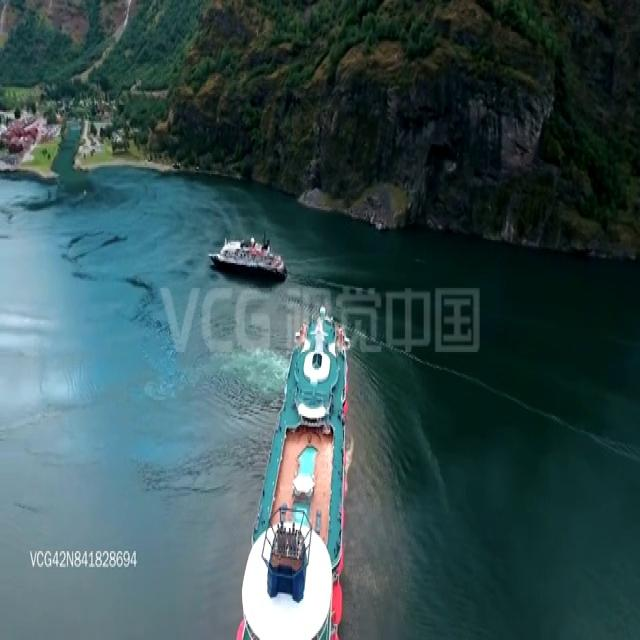passenger ship: (234, 306, 354, 640), (206, 233, 288, 280)
